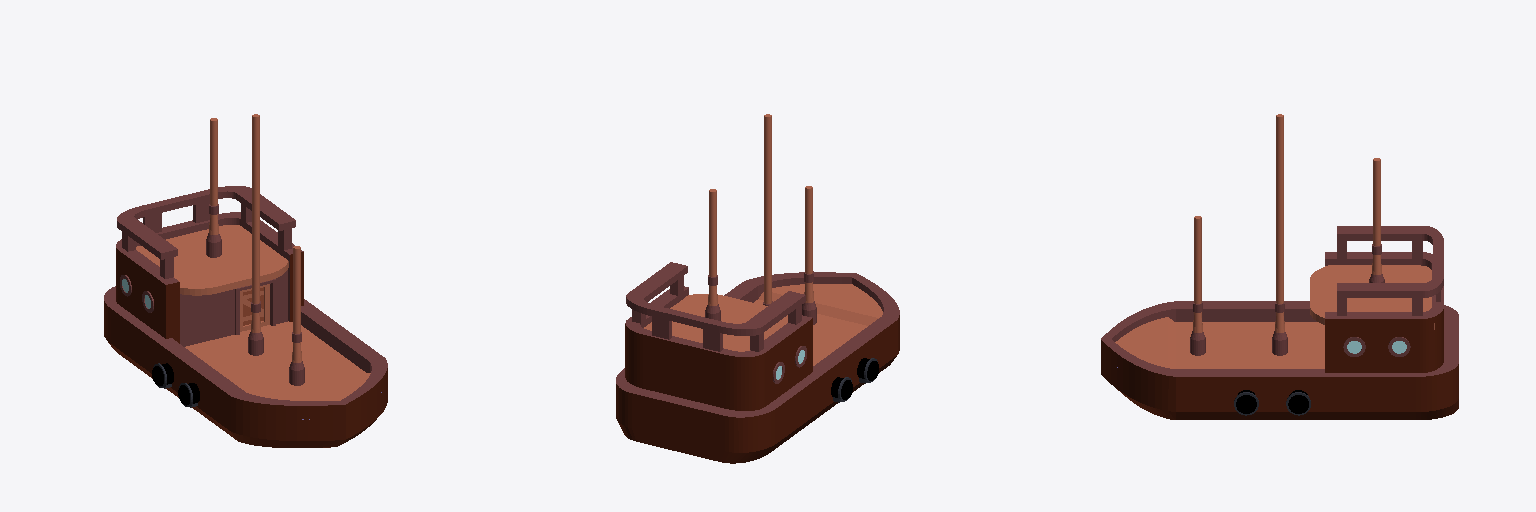
Rendered from player_ship_1_no_sail.obj.
The picture shows the model from 3 angles: view 1: azimuth 30°, elevation 25°; view 2: azimuth 150°, elevation 25°; view 3: azimuth 270°, elevation 25°; orthographic projection.
Visible parts, largest first — view 1: mergedBlocks; view 2: mergedBlocks; view 3: mergedBlocks.
Boxes of the visible parts, <box> form: mergedBlocks: <box>104,114,387,447</box>; mergedBlocks: <box>616,114,899,463</box>; mergedBlocks: <box>1101,114,1458,419</box>.
Bounding box in the file's own units: 2.8 × 4.14 × 4.8.